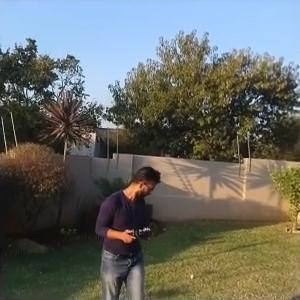follow: (91, 162, 164, 298)
